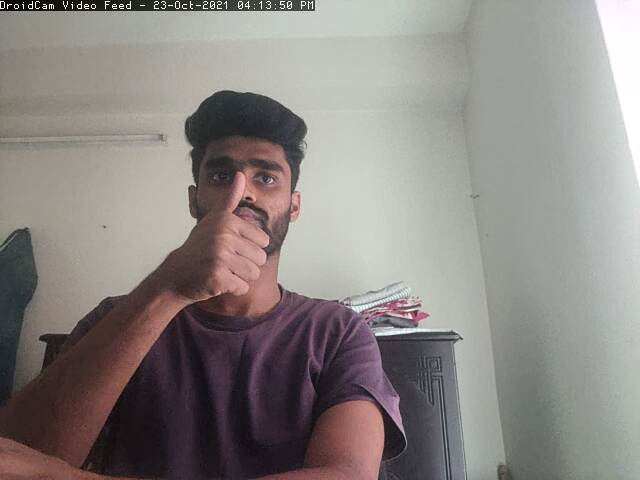ThumbsUp: (180, 171, 271, 300)
